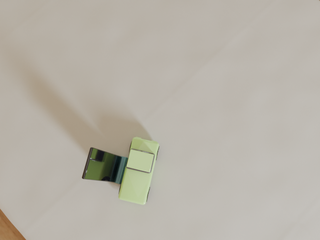phone: (82, 147, 121, 182)
toy_car: (118, 137, 159, 205)
